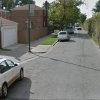Car: (1, 53, 31, 96)
